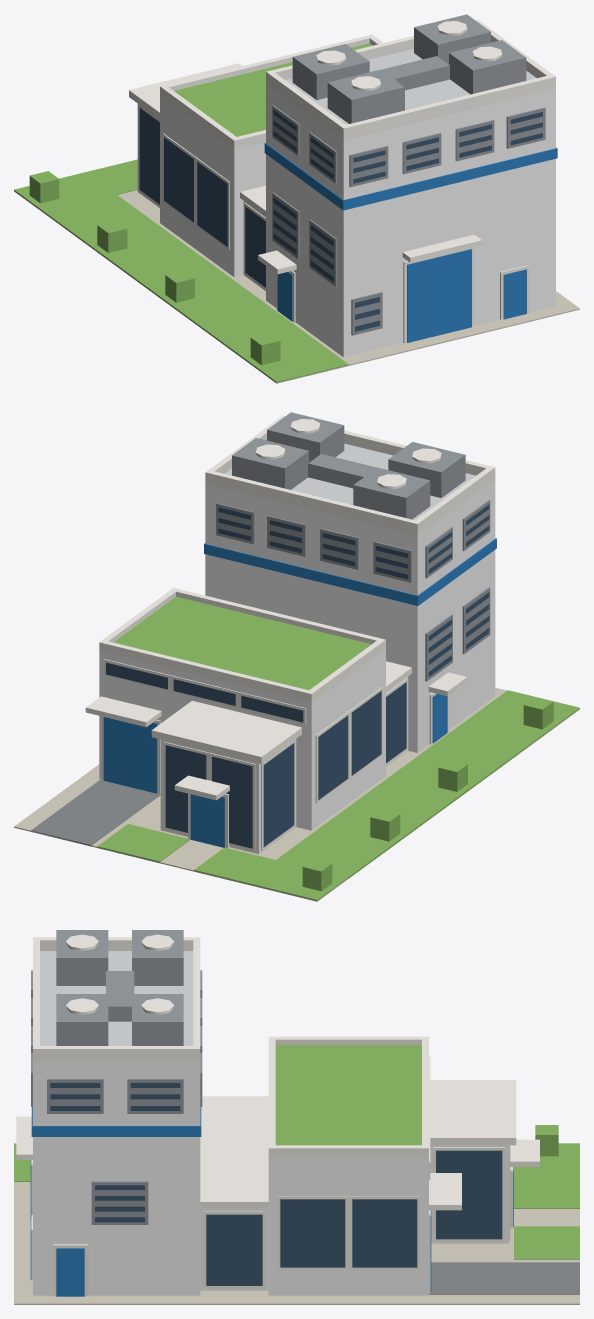
3 views of the same model, one above another, from view 1: azimuth 30°, elevation 25°; view 2: azimuth 150°, elevation 25°; view 3: azimuth 270°, elevation 25° (orthographic). The views are drawn at different scales.
Parts seen in each view (by area): view 1: clean_room, lawn (×2), ac_unit_body (×4), parapet (×6), grille_frame (×9), assembly_hall, window_band (×4), garage_door, yard, green_roof, tree_spot (×4), stripe (+8 smaller); view 2: clean_room, lawn (×3), window_band (×9), parapet (×7), green_roof, assembly_hall, ac_unit_body (×4), grille_frame (×8), yard, entrance_roof, band_frame (×4), drive (+8 smaller); view 3: clean_room, window_band (×4), green_roof, assembly_hall, yard, parapet (×8), ac_unit_body (×4), link_roof, lawn (×2), entrance_roof, drive, roof (+10 smaller).
Boxes of the visible parts, left/top/right/bottom form: clean_room: left=266, top=84, right=555, bottom=357; lawn (×2): left=14, top=159, right=348, bottom=383; ac_unit_body (×4): left=292, top=14, right=526, bottom=123; parapet (×6): left=160, top=20, right=555, bottom=146; grille_frame (×9): left=272, top=105, right=545, bottom=335; assembly_hall: left=160, top=95, right=265, bottom=277; window_band (×4): left=139, top=108, right=265, bottom=287; garage_door: left=407, top=249, right=471, bottom=342; yard: left=14, top=190, right=579, bottom=383; green_roof: left=174, top=43, right=372, bottom=136; tree_spot (×4): left=29, top=171, right=280, bottom=365; stripe: left=264, top=142, right=557, bottom=210; clean_room: left=205, top=479, right=495, bottom=752; lawn (×3): left=97, top=690, right=579, bottom=901; window_band (×9): left=106, top=662, right=406, bottom=848; parapet (×7): left=99, top=415, right=495, bottom=702; green_roof: left=113, top=596, right=371, bottom=690; assembly_hall: left=99, top=649, right=385, bottom=830; ac_unit_body (×4): left=232, top=412, right=465, bottom=519; grille_frame (×8): left=216, top=500, right=490, bottom=681; yard: left=14, top=687, right=579, bottom=901; entrance_roof: left=151, top=700, right=301, bottom=763; band_frame (×4): left=104, top=659, right=382, bottom=851; drive: left=31, top=779, right=160, bottom=846; clean_room: left=33, top=1061, right=200, bottom=1295; window_band (×4): left=206, top=1150, right=502, bottom=1285; green_roof: left=275, top=1045, right=421, bottom=1145; assembly_hall: left=268, top=1158, right=428, bottom=1295; yard: left=14, top=1182, right=579, bottom=1304; parapet (×8): left=33, top=937, right=428, bottom=1157; ac_unit_body (×4): left=56, top=930, right=183, bottom=1045; link_roof: left=200, top=1096, right=268, bottom=1208; lawn (×2): left=514, top=1143, right=579, bottom=1259; entrance_roof: left=430, top=1080, right=516, bottom=1145; drive: left=429, top=1262, right=579, bottom=1294; roof: left=40, top=951, right=193, bottom=1045.
Size of the model in its own units: 16 by 12.52 by 24.
